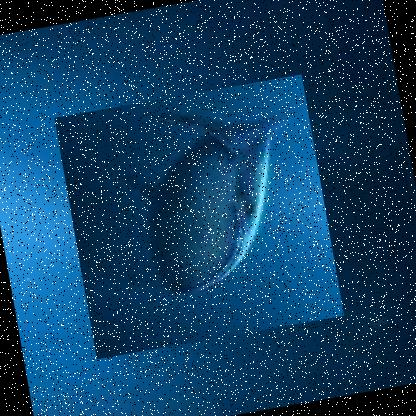blue_whale: (54, 72, 344, 358)
